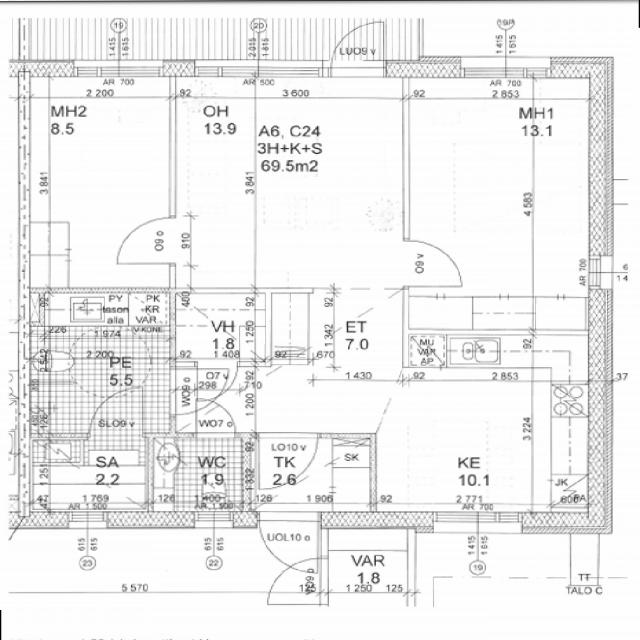door: (260, 512, 318, 571), (258, 432, 318, 489), (331, 20, 384, 76), (88, 385, 142, 438), (116, 218, 176, 264), (268, 558, 328, 604), (169, 369, 227, 414), (402, 242, 460, 287), (196, 361, 237, 402), (195, 398, 234, 438)
